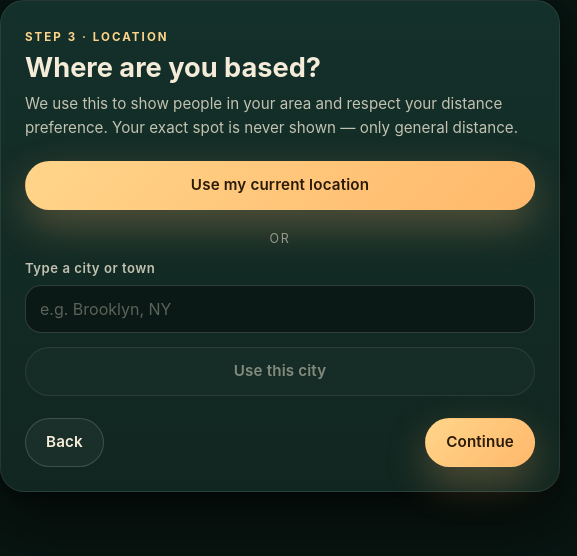
Test: signup validation accessibility › keeps location validation actionable and focuses the city fallback
This screenshot has width=577, height=556.
Click the button "Continue". click: (480, 442)
box: top-left (425, 418), bottom-right (535, 467)
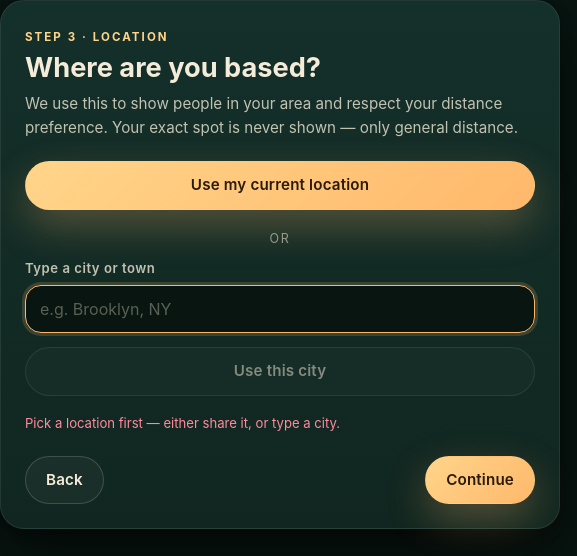
Check: the message shows "Pick a location first", box top-left (25, 415), bottom-right (340, 431)
